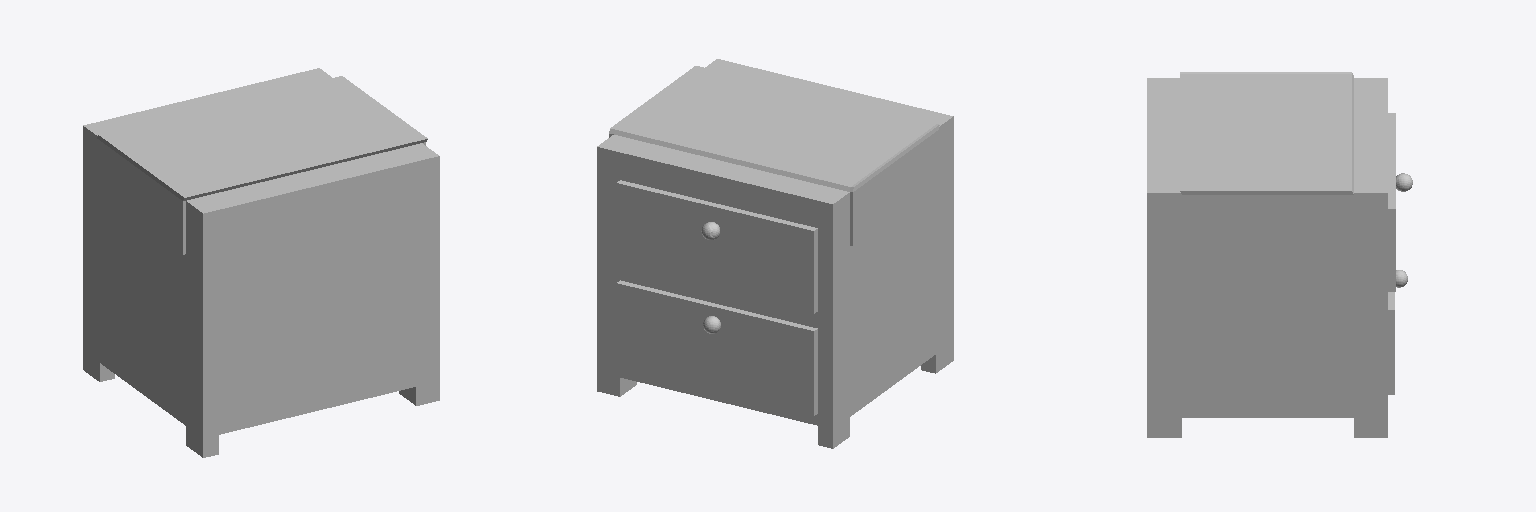
The model's file is comodino.obj.
3 renders of one model, left to right at view 1: azimuth 30°, elevation 25°; view 2: azimuth 150°, elevation 25°; view 3: azimuth 270°, elevation 25°, orthographic.
Parts seen in each view (by area): view 1: Cube; view 2: Cube; view 3: Cube.
Boxes of the visible parts, box(x1,y1,x2,y2) form: Cube: box(83, 68, 439, 457); Cube: box(597, 59, 953, 448); Cube: box(1147, 72, 1412, 437).
Size of the model in its own units: 2.34 by 2.28 by 2.21.